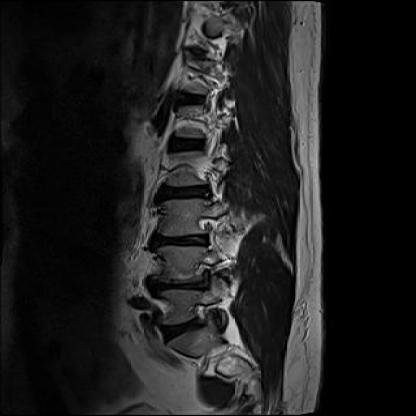Disc Bulgerotation: (137, 210, 254, 257), (145, 307, 232, 344)
